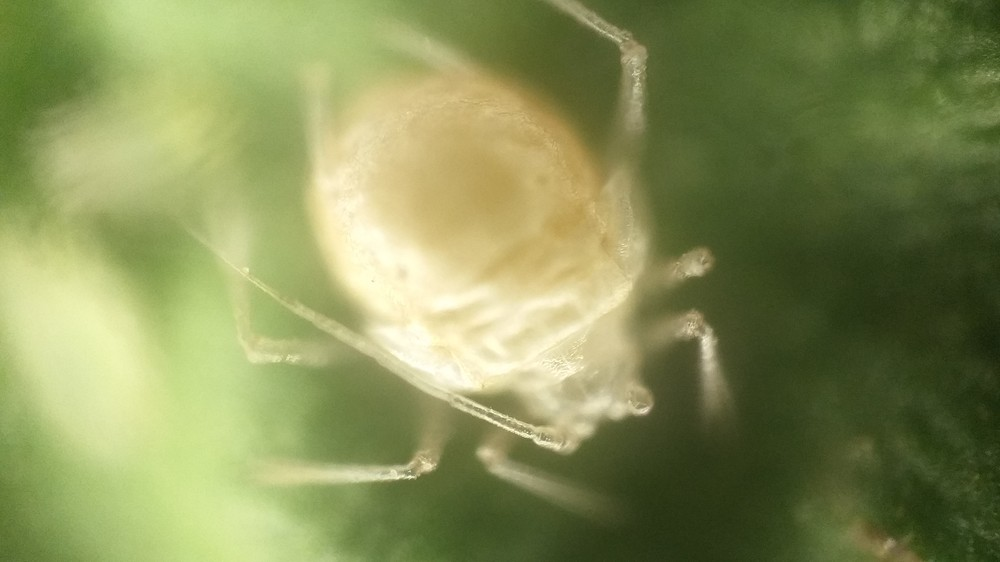Pulgon: (204, 10, 789, 554)
